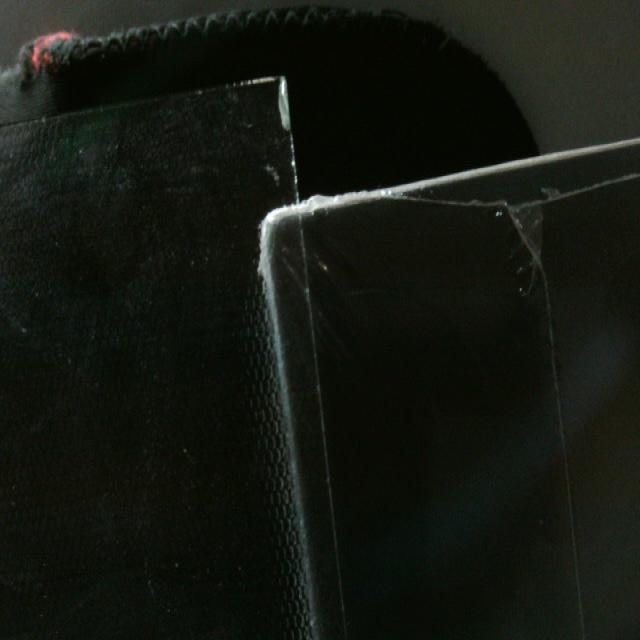edge_chip: (229, 47, 309, 168)
